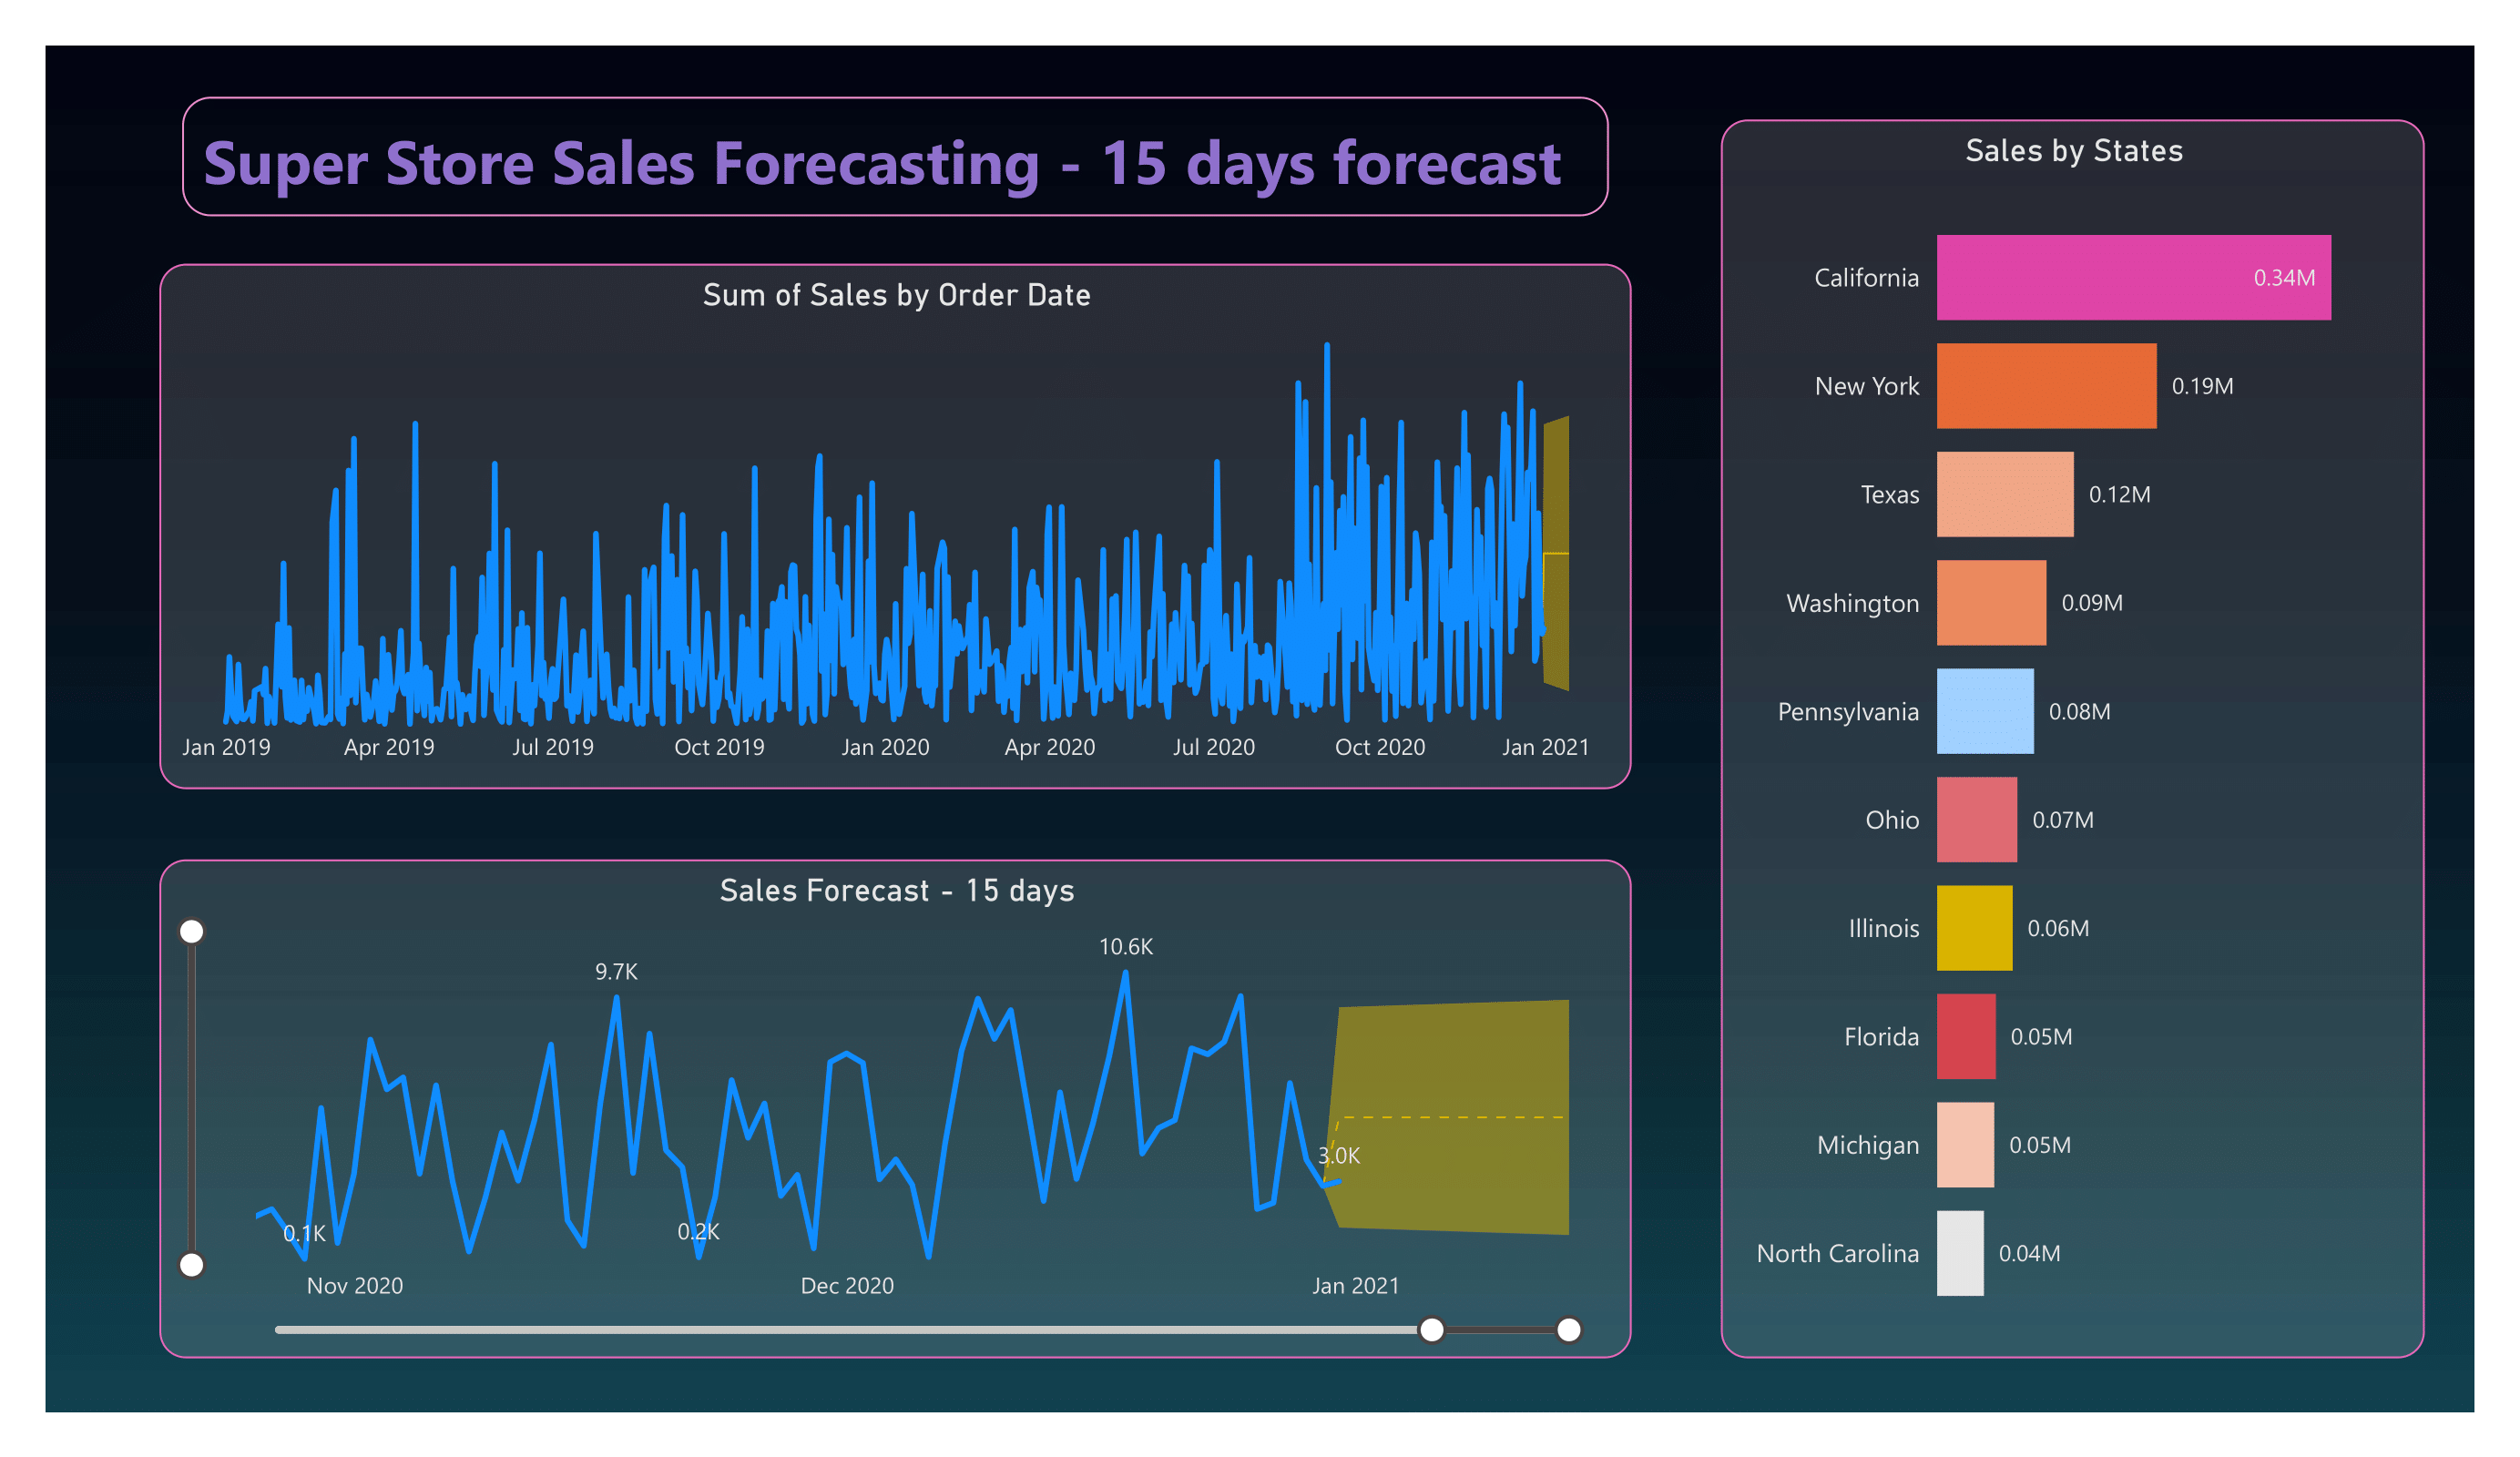

The dashboard page shown, as its layout file describes it:
{"tool":"powerbi","page":{"name":"Page 2","canvas":[1280,720],"ordinal":1},"visuals":[{"type":"lineChart","title":"Sales Forecast - 15 days","fields":{"Y":["Sum(SuperStore_Sales_Dataset.Sales)"],"Category":["SuperStore_Sales_Dataset.Order Date"]},"box":[60.3,429.3,775.5,262.9],"z":0},{"type":"lineChart","fields":{"Y":["Sum(SuperStore_Sales_Dataset.Sales)"],"Category":["SuperStore_Sales_Dataset.Order Date"]},"box":[60.3,114.6,775.5,277.4],"z":1000},{"type":"barChart","title":"Sales by States","fields":{"Y":["Sum(SuperStore_Sales_Dataset.Sales)"],"Category":["SuperStore_Sales_Dataset.State"]},"box":[882.8,38.6,371.5,653.7],"z":2000},{"type":"textbox","box":[72.4,26.5,751.4,63.9],"z":3000}]}

Visuals, with their boxes on the page's 1280x720 design canvas (x1, y1, x2, y2). These are canvas units, not pixel positions in the 2520x1457 screenshot, which may show the page scaled, cropped or inside an application window:
"Sales Forecast - 15 days" lineChart: box(60, 429, 836, 692)
lineChart - Sum(SuperStore_Sales_Dataset.Sales) x SuperStore_Sales_Dataset.Order Date: box(60, 115, 836, 392)
"Sales by States" barChart: box(883, 39, 1254, 692)
textbox: box(72, 26, 824, 90)
